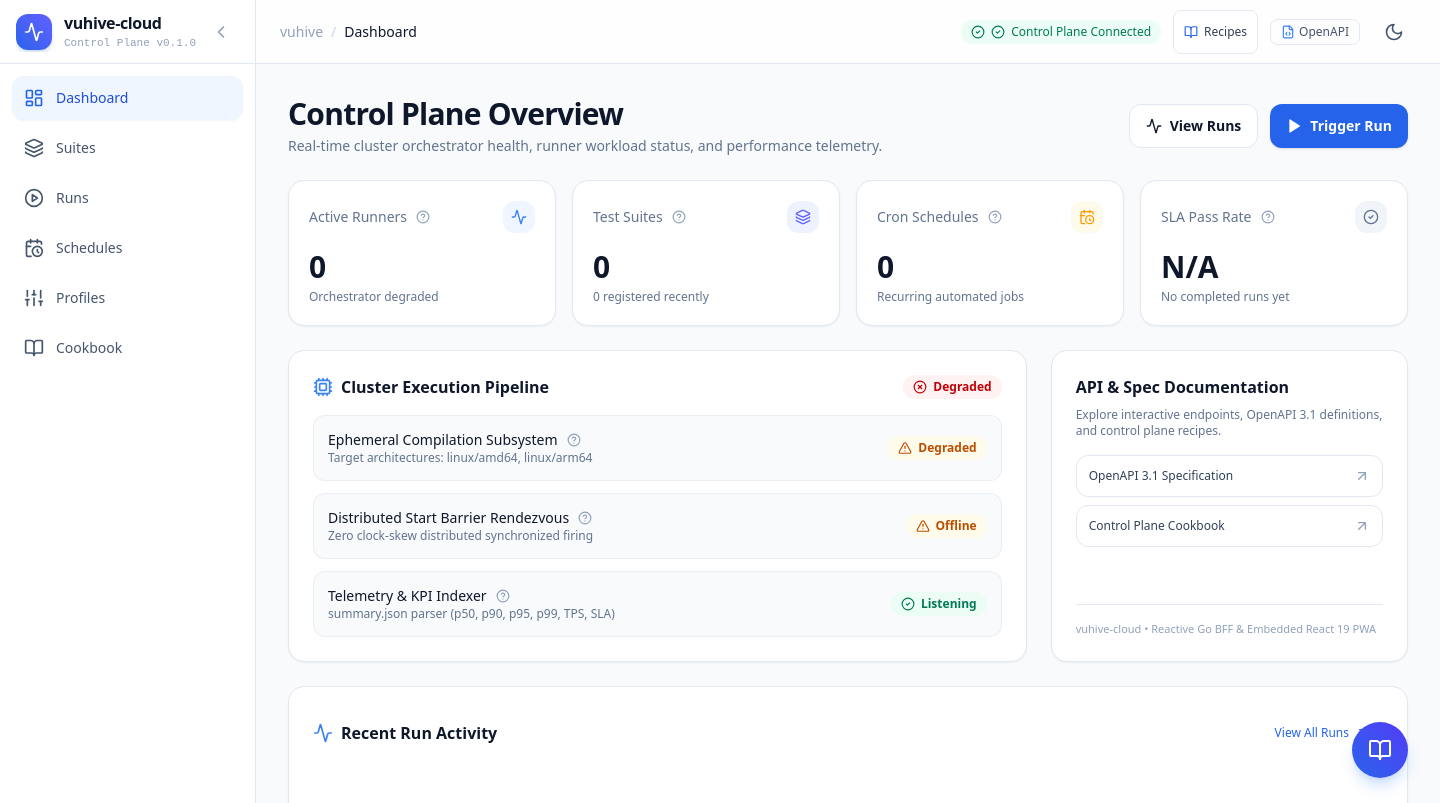
Scenario: App & Responsive Shell Layout › navigates to Cookbook when clicking Control Plane Cookbook on Dashboard
This screenshot has width=1440, height=803.
What coordinates should you click on to do the following:
click the button "Control Plane Cookbook"
I would click on:
 (1157, 526)
Its box is [1076,505,1383,547].
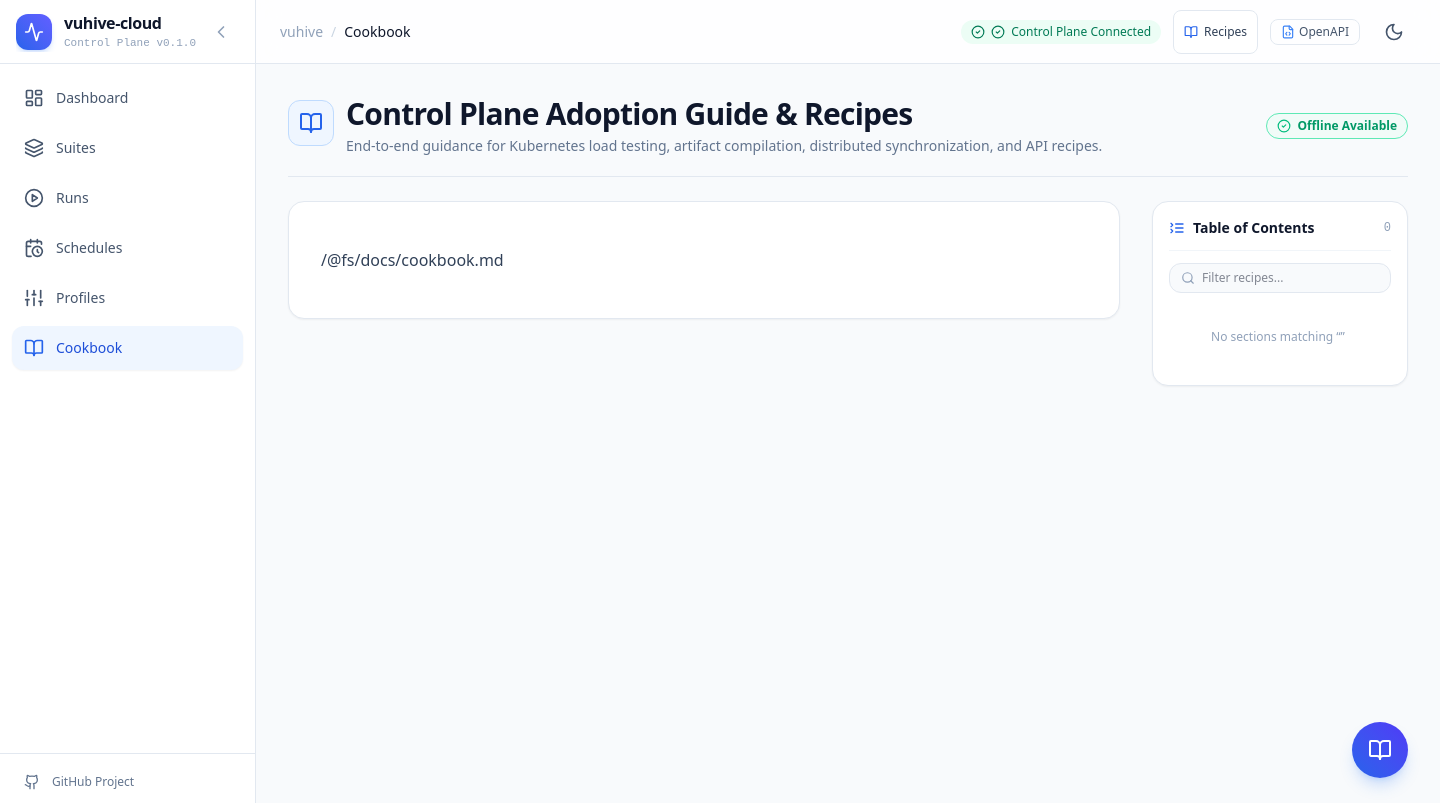
Expected: the heading "Control Plane Adoption Guide & Recipes" is shown, [346,96,912,132]
